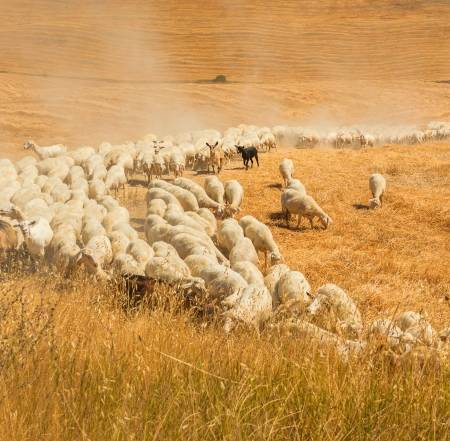sheep: (245, 222, 291, 267), (284, 193, 335, 230), (15, 216, 51, 258), (20, 137, 67, 160), (365, 170, 391, 211), (224, 177, 248, 216), (234, 143, 263, 170), (204, 141, 228, 172), (275, 154, 297, 184)
